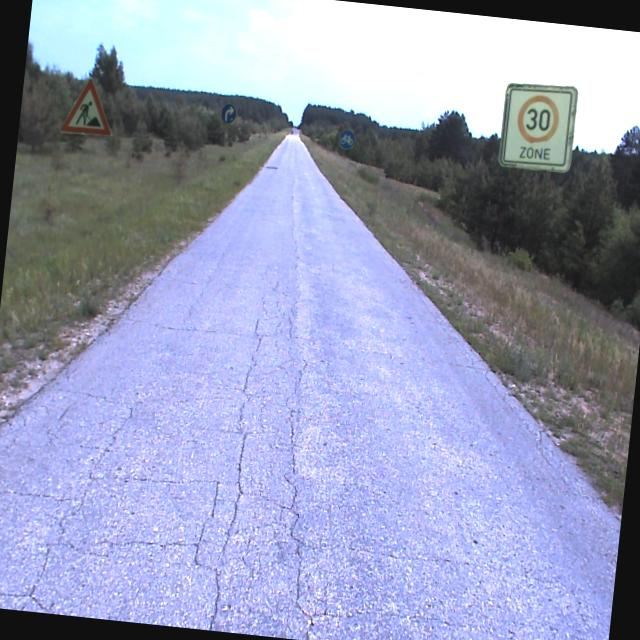road: (0, 133, 620, 640)
